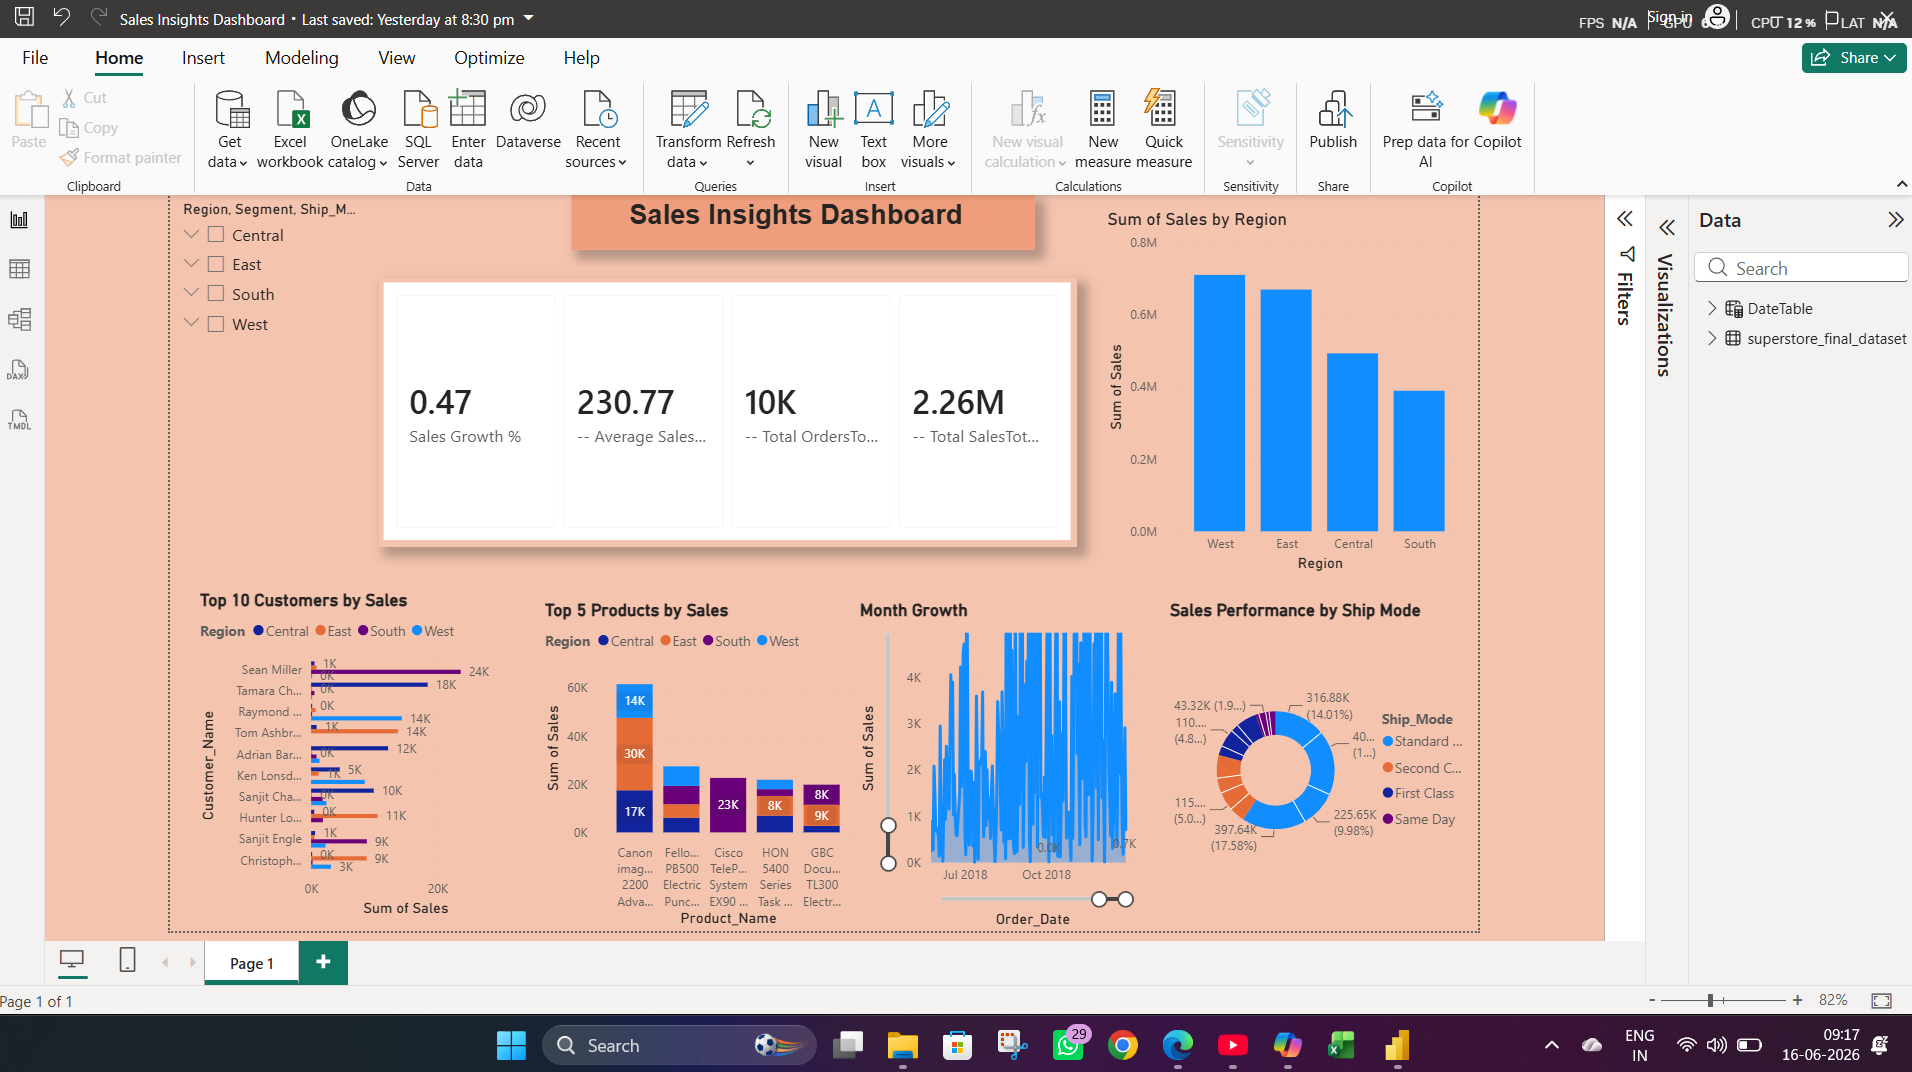

What the dashboard file says about the page in this screenshot:
{"tool":"powerbi","page":{"name":"Page 1","canvas":[1280,720],"ordinal":0},"visuals":[{"type":"clusteredBarChart","title":"Top 10 Customers by Sales","fields":{"Category":["superstore_final_dataset.Customer_Name"],"Y":["Sum(superstore_final_dataset.Sales)"],"Series":["superstore_final_dataset.Region"]},"box":[24.5,386.4,314.3,324.1],"z":0},{"type":"columnChart","title":"Top 5 Products by Sales","fields":{"Category":["superstore_final_dataset.Product_Name"],"Y":["Sum(superstore_final_dataset.Sales)"],"Series":["superstore_final_dataset.Region"]},"box":[362,396.2,317.9,324.1],"z":1000},{"type":"donutChart","title":"Sales Performance by Ship Mode","fields":{"Category":["superstore_final_dataset.Ship_Mode"],"Y":["Sum(superstore_final_dataset.Sales)"],"Series":["superstore_final_dataset.Region"]},"box":[973.4,396.2,306.9,314.3],"z":2000},{"type":"slicer","fields":{"Values":["superstore_final_dataset.Region","superstore_final_dataset.Segment","superstore_final_dataset.Ship_Mode","superstore_final_dataset.Category"]},"box":[0,0,204.2,359.5],"z":3000},{"type":"columnChart","fields":{"Category":["superstore_final_dataset.Region"],"Y":["Sum(superstore_final_dataset.Sales)"]},"box":[912.2,13.5,368.1,359.5],"z":4000},{"type":"textbox","box":[392.5,0,453.7,53.8],"z":5000},{"type":"cardVisual","fields":{"Data":["DateTable.Sales Growth %","superstore_final_dataset.-- Average SalesAverage Sales","superstore_final_dataset.-- Total OrdersTotal Orders","superstore_final_dataset.-- Total SalesTotal Sales"]},"box":[204.2,80.7,683.6,262.9],"z":6000},{"type":"areaChart","title":"Month Growth","fields":{"Category":["superstore_final_dataset.Order_Date"],"Y":["Sum(superstore_final_dataset.Sales)"]},"box":[670.1,396.2,293.5,324.1],"z":7000}]}

Visuals, with their boxes on the page's 1280x720 design canvas (x1, y1, x2, y2). These are canvas units, not pixel positions in the 1912x1072 screenshot, which may show the page scaled, cropped or inside an application window:
"Top 10 Customers by Sales" clusteredBarChart: [24, 386, 339, 710]
"Top 5 Products by Sales" columnChart: [362, 396, 680, 720]
"Sales Performance by Ship Mode" donutChart: [973, 396, 1280, 710]
slicer - superstore_final_dataset.Region x superstore_final_dataset.Segment: [0, 0, 204, 360]
columnChart - superstore_final_dataset.Region x Sum(superstore_final_dataset.Sales): [912, 14, 1280, 373]
textbox: [392, 0, 846, 54]
cardVisual - DateTable.Sales Growth % x superstore_final_dataset.-- Average SalesAverage Sales: [204, 81, 888, 344]
"Month Growth" areaChart: [670, 396, 964, 720]
